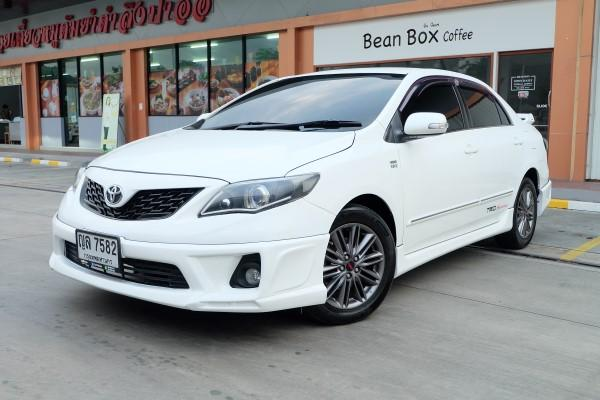license-plate: (70, 226, 127, 281)
